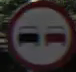No overtake: (9, 8, 69, 58)
